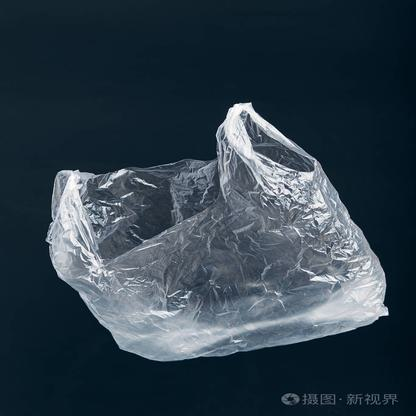plastic bag: (44, 101, 389, 361)
